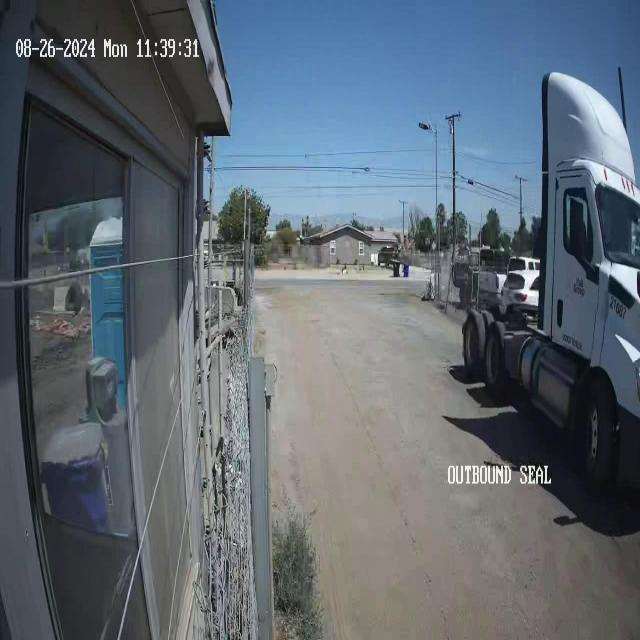TRUCK_IN: (458, 68, 639, 495)
